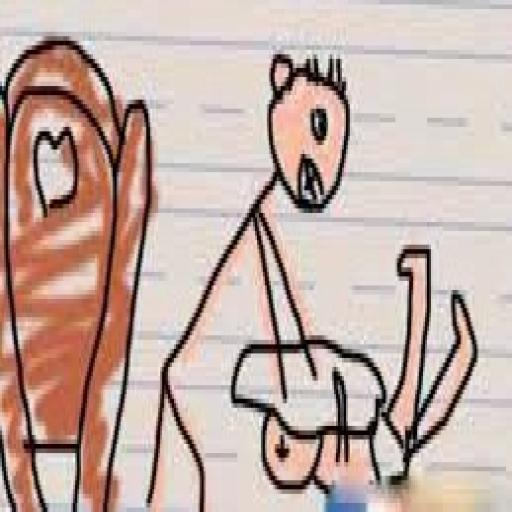person: (145, 30, 353, 507), (238, 244, 477, 494)
